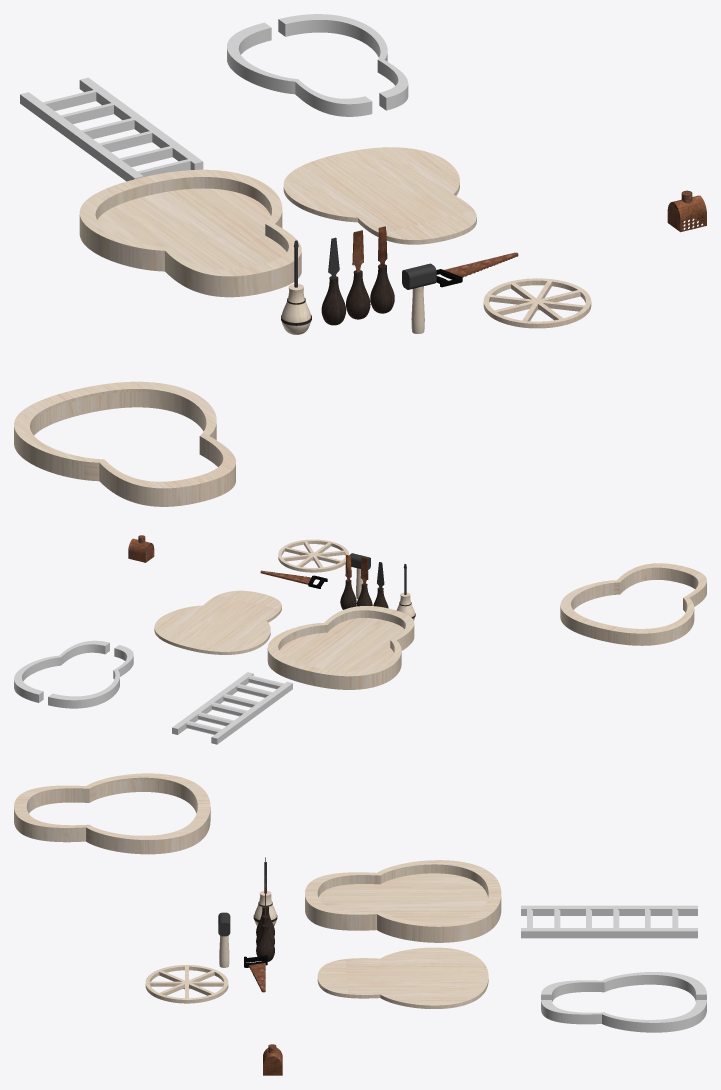
The model's file is utensili.fbx.
3 renders of one model, top to bottom at view 1: azimuth 30°, elevation 25°; view 2: azimuth 150°, elevation 25°; view 3: azimuth 270°, elevation 25°, orthographic. The views are drawn at different scales.
Parts seen in each view (by area): view 1: chitarra.001, base_chitarra, bordo_chitarra, scala, chitarra_divisa, ruota, chitazza_divisa, Utensili, cacciavitie, scalpello, scalpello.001, scalpello.002; view 2: chitarra.001, base_chitarra, bordo_chitarra, scala, chitazza_divisa, ruota, chitarra_divisa, Utensili, scalpello.002; view 3: chitarra.001, base_chitarra, bordo_chitarra, scala, chitazza_divisa, chitarra_divisa, ruota, Utensili.
Part boxes in pixels (<box>): chitarra.001: <box>79,169,301,297</box>; base_chitarra: <box>283,147,476,244</box>; bordo_chitarra: <box>14,381,235,506</box>; scala: <box>20,77,203,181</box>; chitarra_divisa: <box>227,22,372,116</box>; ruota: <box>483,278,591,328</box>; chitazza_divisa: <box>278,14,408,110</box>; Utensili: <box>667,190,706,232</box>; cacciavitie: <box>281,284,310,334</box>; scalpello: <box>321,276,346,325</box>; scalpello.001: <box>346,270,370,319</box>; scalpello.002: <box>370,264,394,313</box>; chitarra.001: <box>267,606,414,689</box>; base_chitarra: <box>154,590,281,654</box>; bordo_chitarra: <box>560,563,706,645</box>; scala: <box>172,672,292,744</box>; chitazza_divisa: <box>14,640,109,702</box>; ruota: <box>278,539,348,572</box>; chitarra_divisa: <box>48,645,133,708</box>; Utensili: <box>128,535,154,562</box>; scalpello.002: <box>340,579,356,609</box>; chitarra.001: <box>305,860,501,942</box>; base_chitarra: <box>317,947,488,1008</box>; bordo_chitarra: <box>14,773,210,854</box>; scala: <box>521,905,697,938</box>; chitazza_divisa: <box>541,1000,706,1032</box>; chitarra_divisa: <box>541,972,706,1001</box>; ruota: <box>145,965,228,1003</box>; Utensili: <box>263,1044,282,1075</box>.
Bounding box in the file's own units: 3422 × 407 × 3526.
